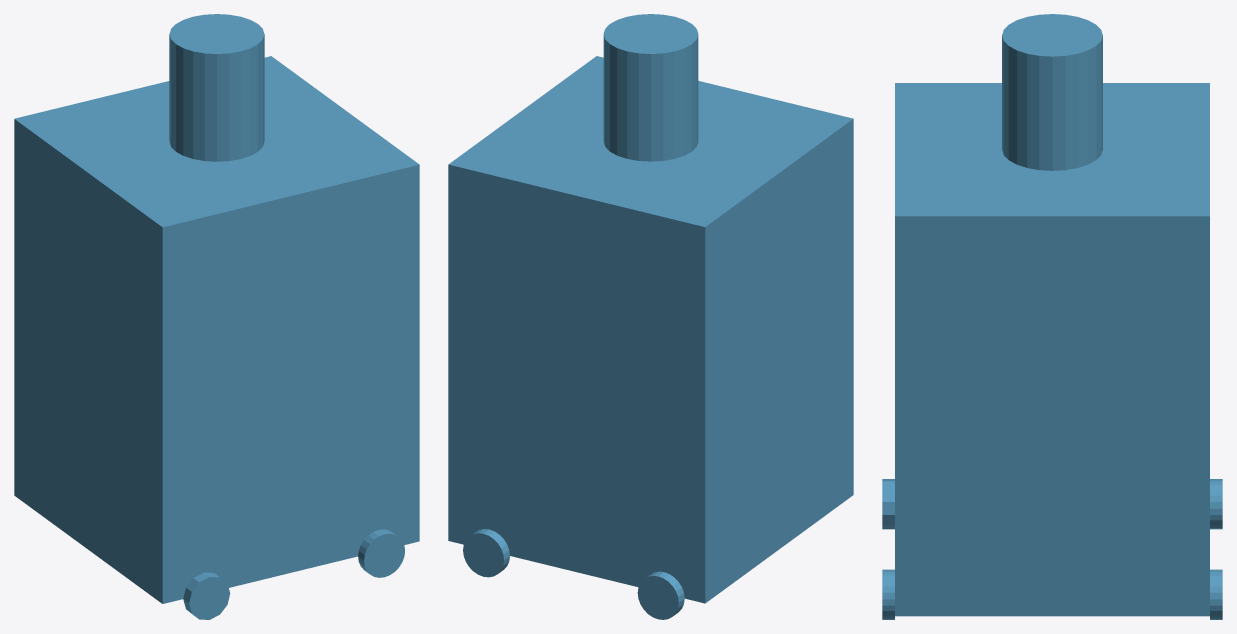
The model's file is gr_bleu.dae.
3 renders of one model, left to right at view 1: azimuth 30°, elevation 25°; view 2: azimuth 150°, elevation 25°; view 3: azimuth 270°, elevation 25°, orthographic. The views are drawn at different scales.
Parts seen in each view (by area): view 1: Group35; view 2: Group35; view 3: Group35.
Part boxes in pixels (x1,y1,x2,y2): Group35: (14, 14, 419, 619); Group35: (448, 14, 853, 619); Group35: (882, 14, 1222, 619).
Size of the model in its own units: 1.34 by 1.44 by 2.51.
